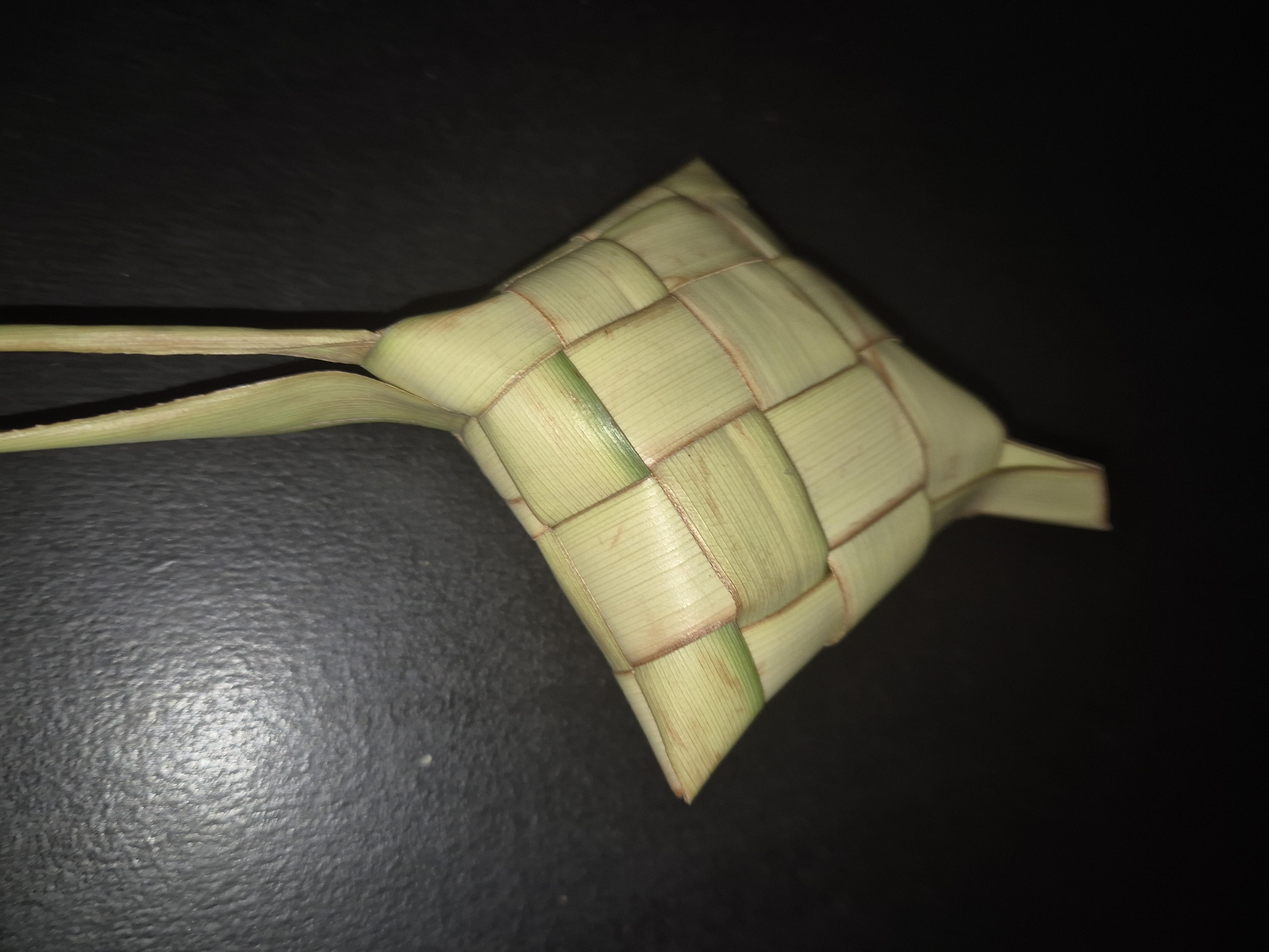Tipat Nasi: (205, 275, 1052, 752)
